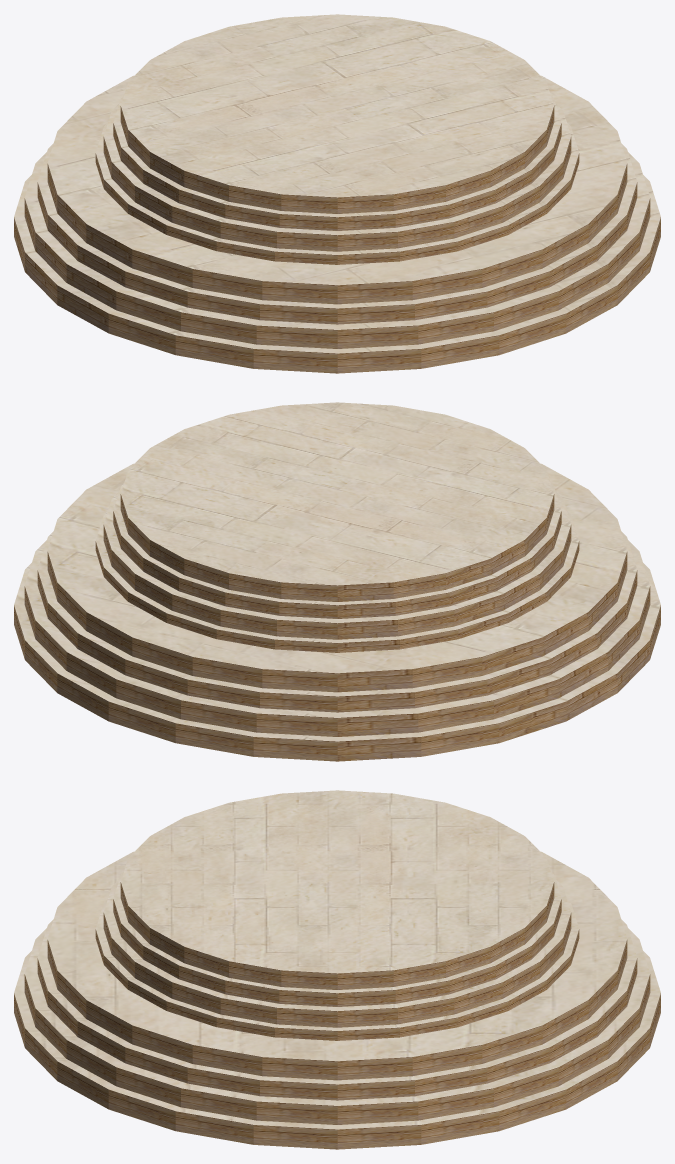
Rendered from piramide2.dae.
3 renders of one model, top to bottom at view 1: azimuth 30°, elevation 25°; view 2: azimuth 150°, elevation 25°; view 3: azimuth 270°, elevation 25°, orthographic.
Parts seen in each view (by area): view 1: piramide_s; view 2: piramide_s; view 3: piramide_s.
Boxes of the visible parts, x1,y1,x2,y2 form: piramide_s: [14, 14, 660, 373]; piramide_s: [14, 402, 660, 761]; piramide_s: [14, 790, 660, 1149].
Bounding box in the file's own units: 31.54 × 31.54 × 7.04.
